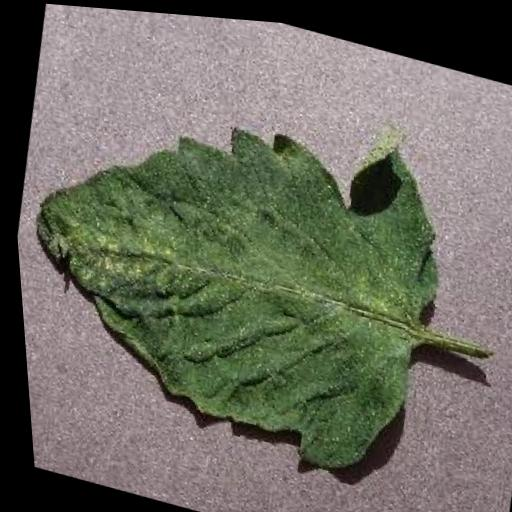Spider Mites: (3, 43, 471, 492)
